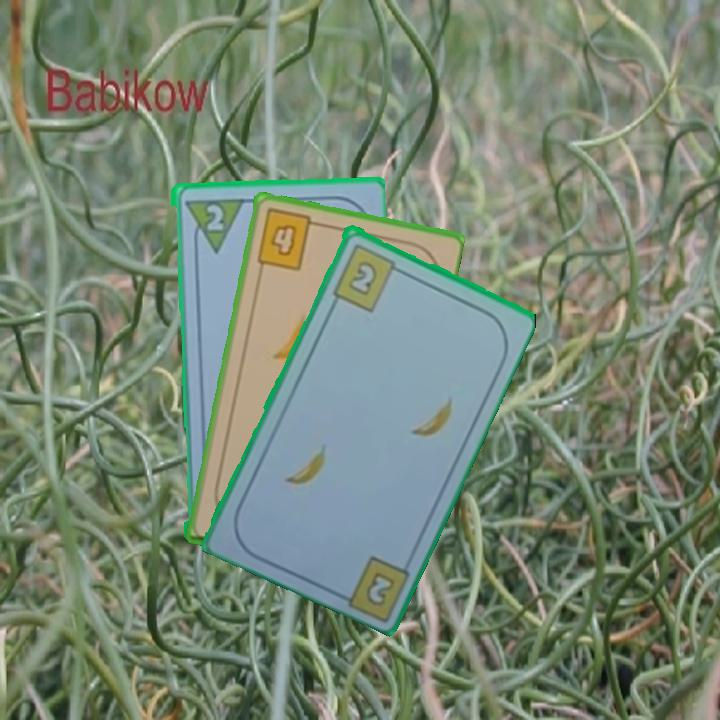2b: (329, 240, 406, 314), (365, 571, 394, 606)
2p: (202, 200, 226, 233)
4b: (253, 205, 324, 274)
